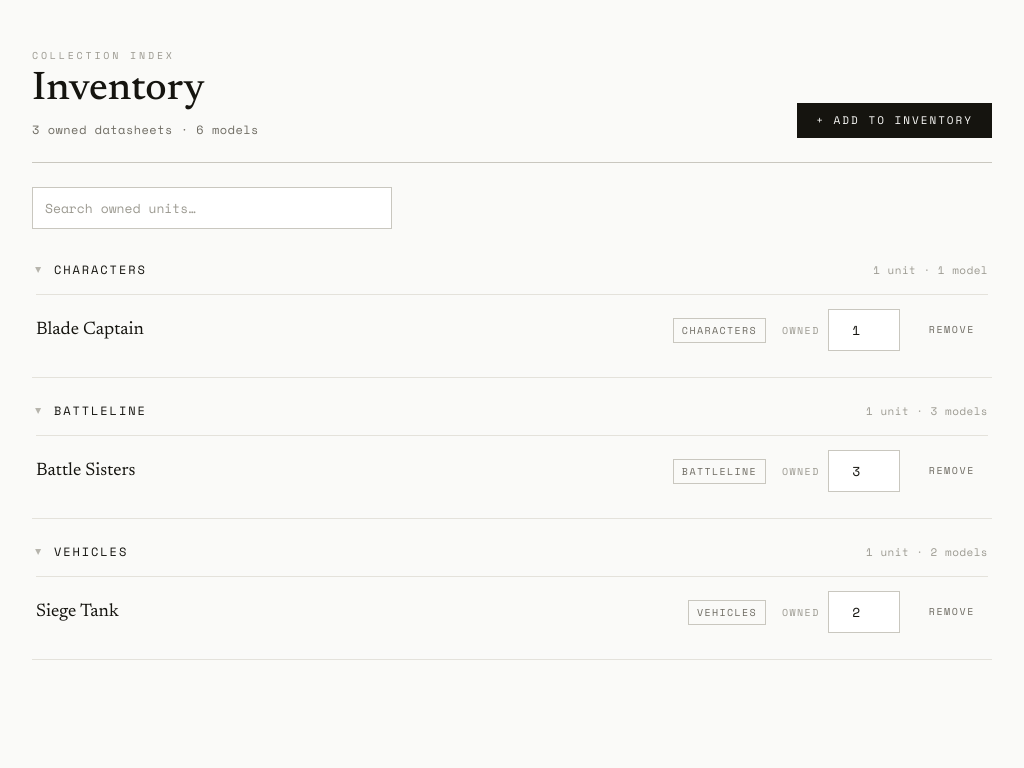
Test: InventoryView › filters the list by the search query
Type "tank" into the search field named "Search inventory" at coordinates (212, 208), box top-left (32, 187), bottom-right (392, 229)
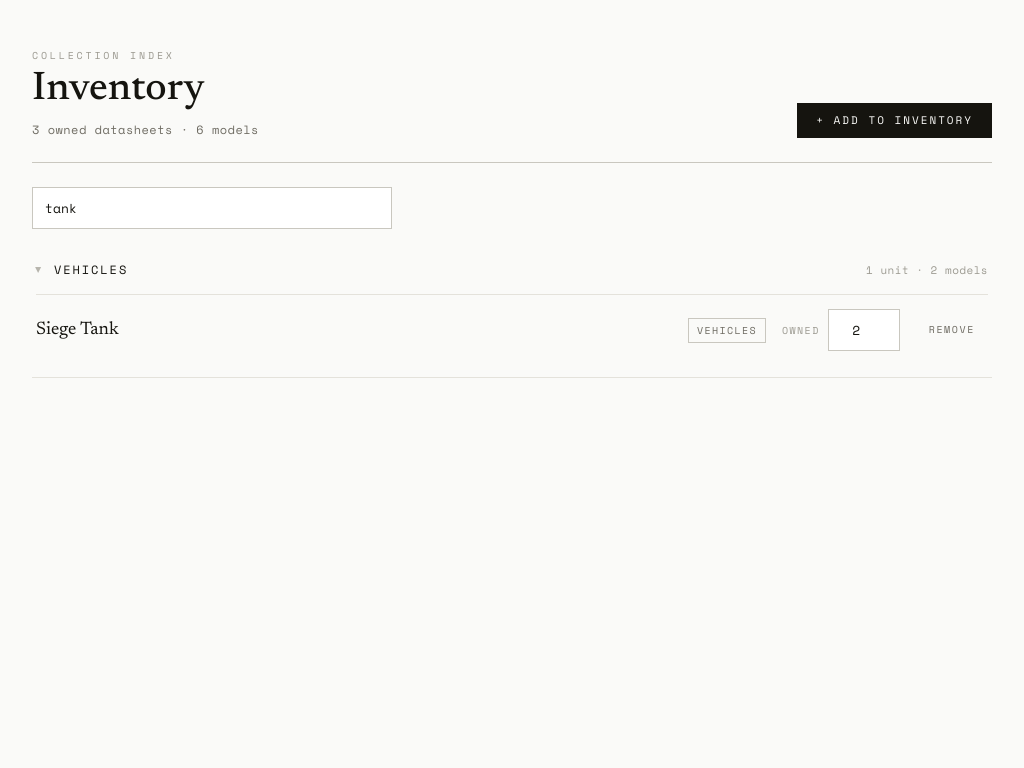
Expected: the text "Siege Tank" is shown, top-left (36, 321), bottom-right (119, 339)
Now the text "Blade Captain" is gone
